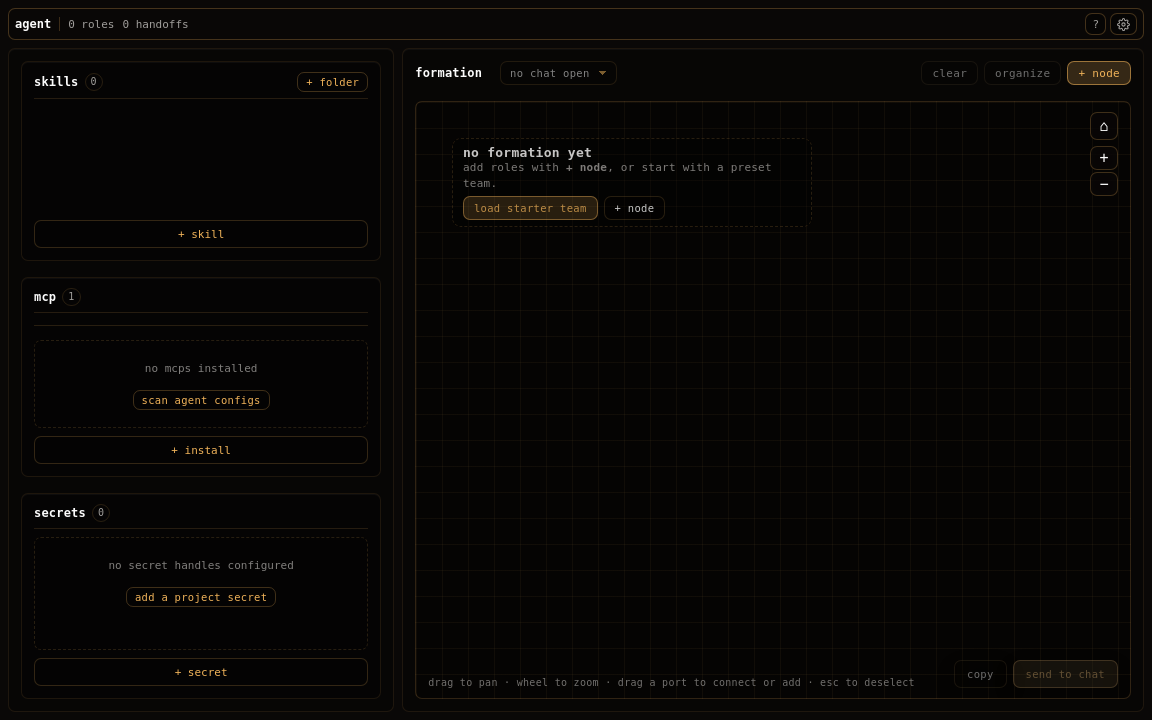
Scenario: AgentPanel integration › dragging_output_to_empty_canvas_opens_picker_and_adds_connected_node
The image size is (1152, 720).
Click the button "load starter team".
click(530, 208)  # box 463,196 -> 598,220
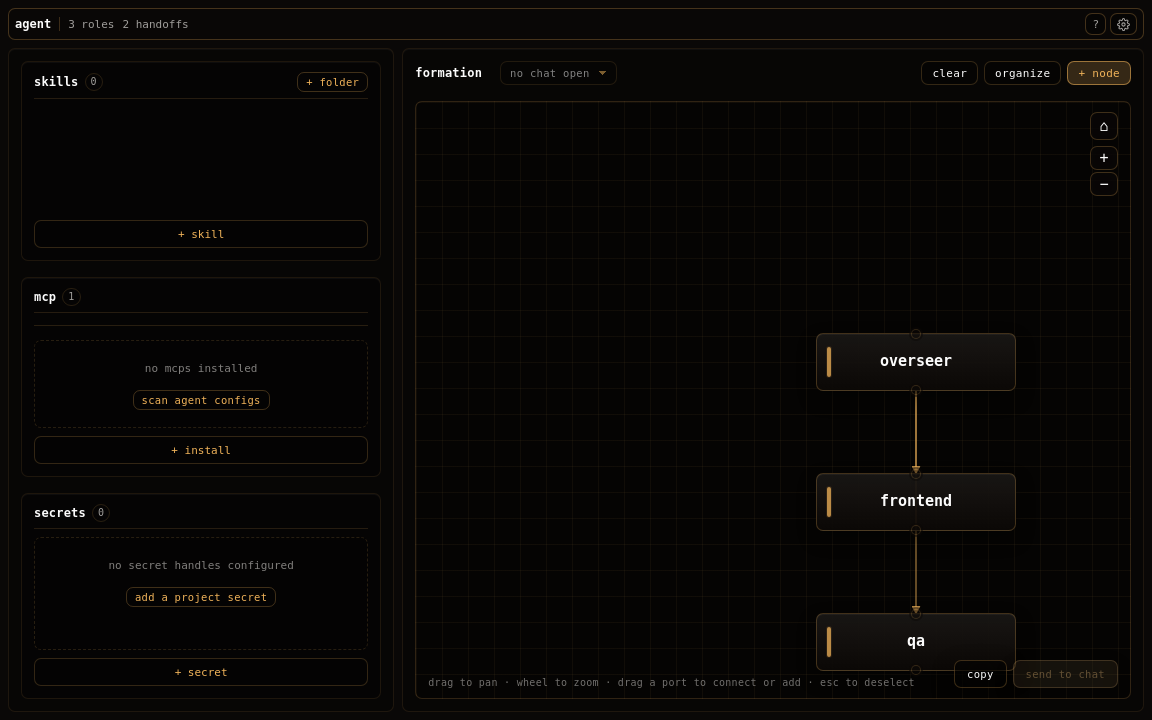
Press the mouse on the button named "drag from overseer to connect" at (916, 390), box 911,385 -> 921,395
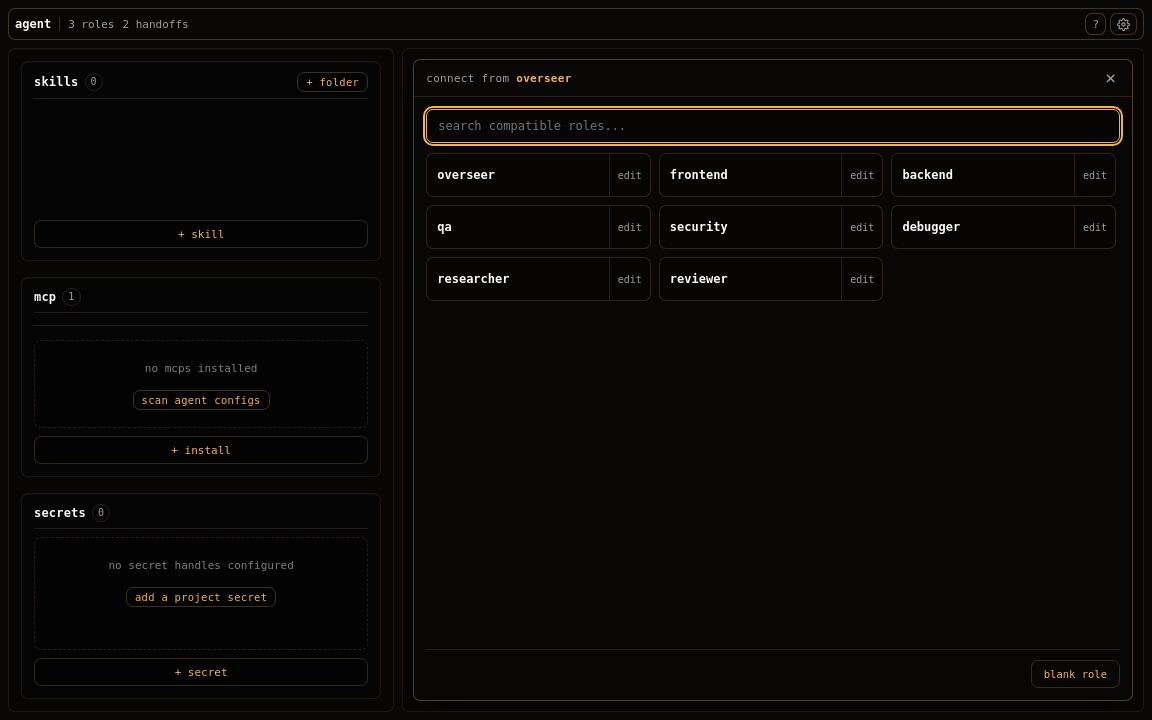
Type "security" into the field with placeholder "search compatible roles...".
click(773, 126); type("security")  # box 426,109 -> 1120,143
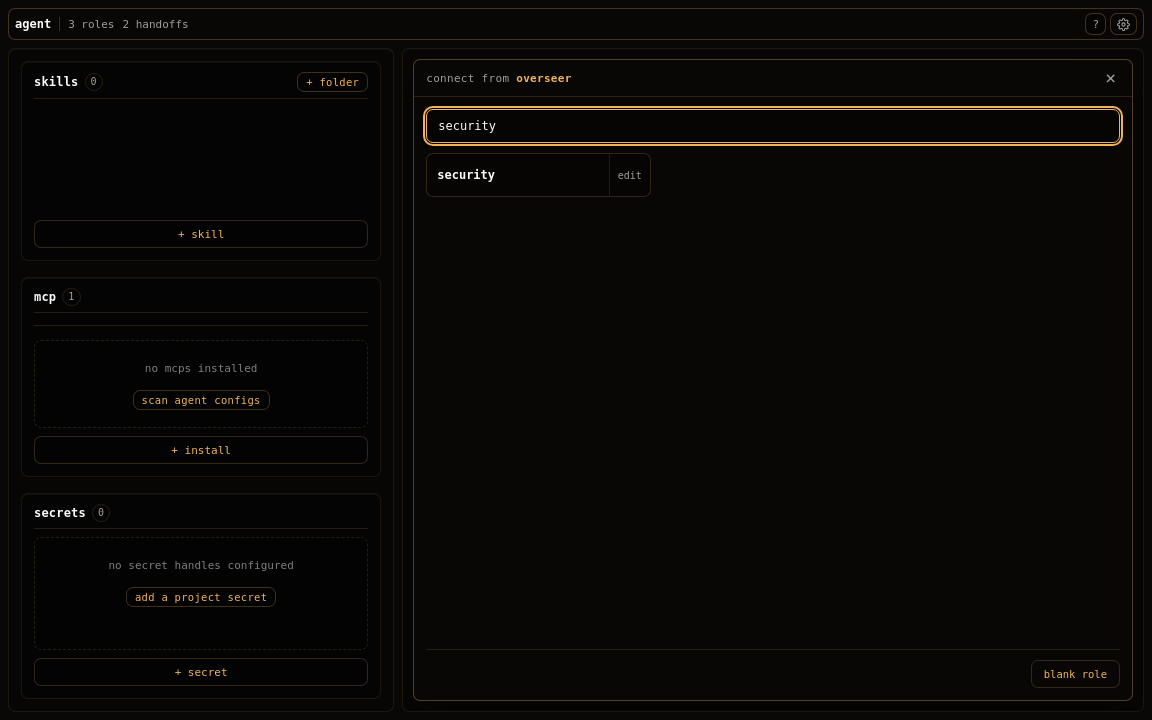
Click the button "security".
click(518, 175)  # box 427,154 -> 609,196
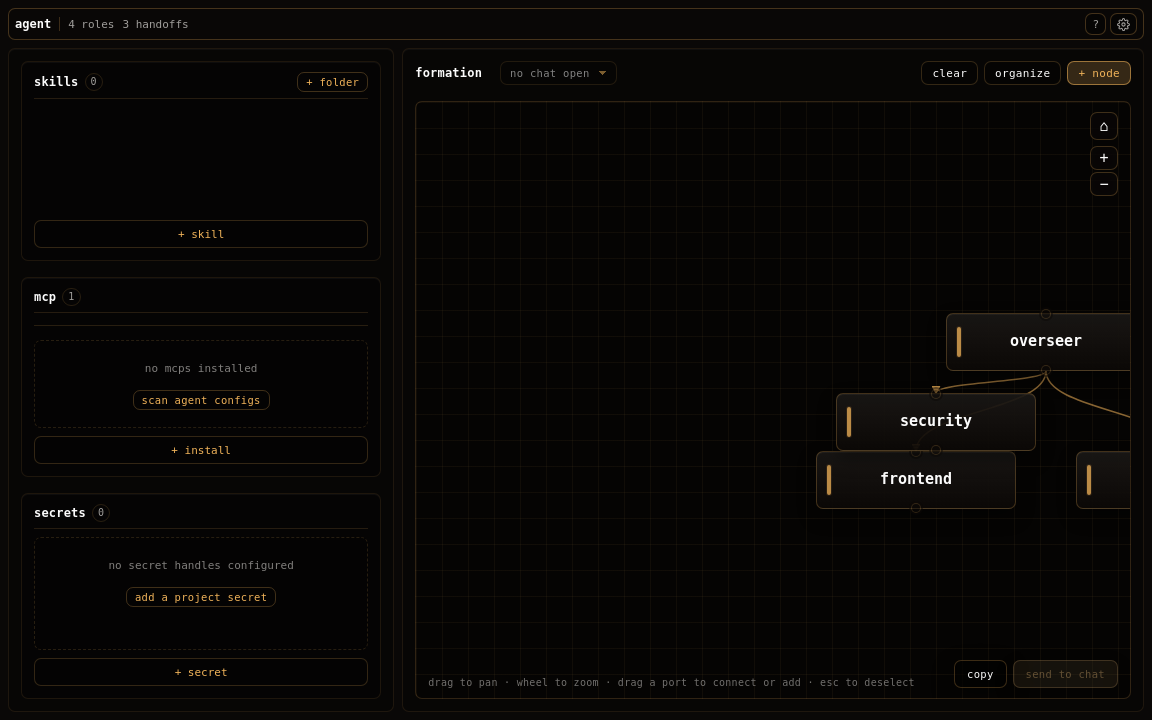
Result: the text "4 roles" is shown at 68,18 -> 114,30
Result: the text "3 handoffs" is shown at 122,18 -> 189,30
